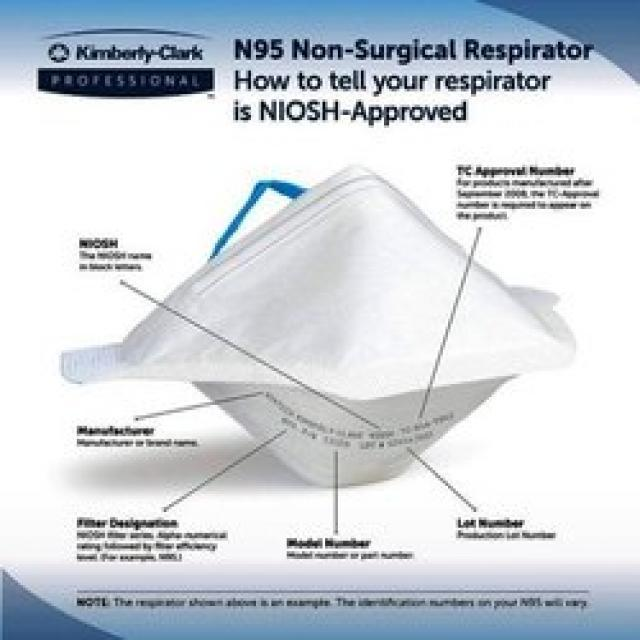face mask: (69, 164, 599, 506)
